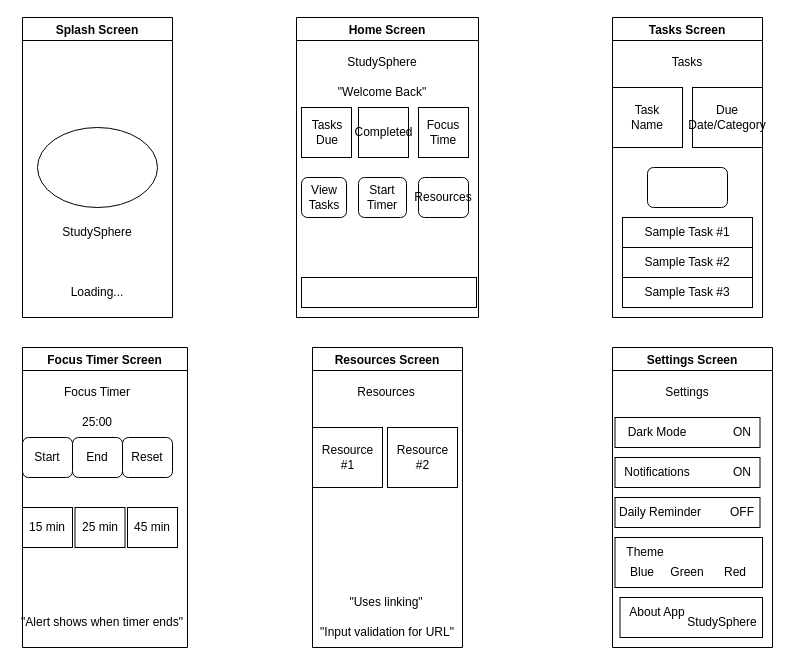
The diagram is 790 pixels wide and 665 high, and some of its shapes have lost their labels. The centre of each missing label's shape, as x and y in pixels:
Add Task: point 687,187
Logo: point 97,167
